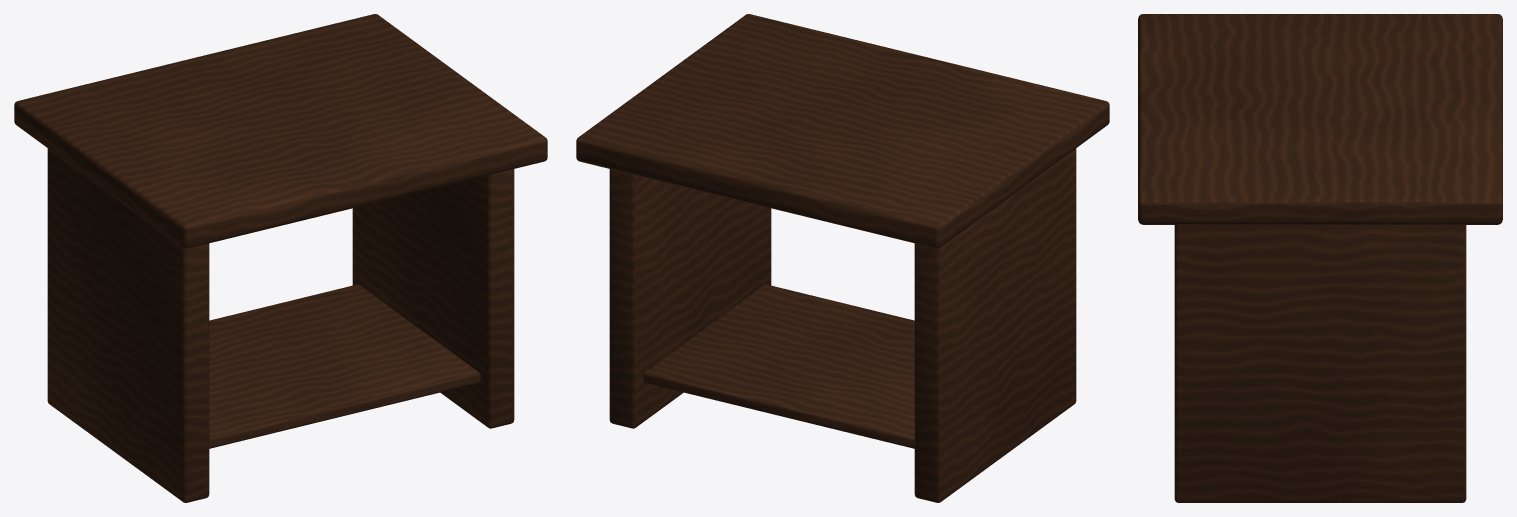
Rendered from side-table.glb.
3 views of the same model, side by side, from view 1: azimuth 30°, elevation 25°; view 2: azimuth 150°, elevation 25°; view 3: azimuth 270°, elevation 25° (orthographic). The views are drawn at different scales.
Visible parts, largest first — view 1: top, end, shelf, end.001; view 2: top, end, shelf, end.001; view 3: end.001, top.
Boxes of the visible parts, <box> form: top: <box>14,14,547,248</box>; end: <box>47,148,209,502</box>; shelf: <box>209,284,480,448</box>; end.001: <box>352,169,514,428</box>; top: <box>576,14,1109,248</box>; end: <box>914,148,1076,502</box>; shelf: <box>643,284,914,448</box>; end.001: <box>609,169,771,428</box>; end.001: <box>1174,225,1466,502</box>; top: <box>1138,14,1502,224</box>.
Size of the model in its own units: 1.1 by 0.85 by 0.9.
1 material, 1 textured.
